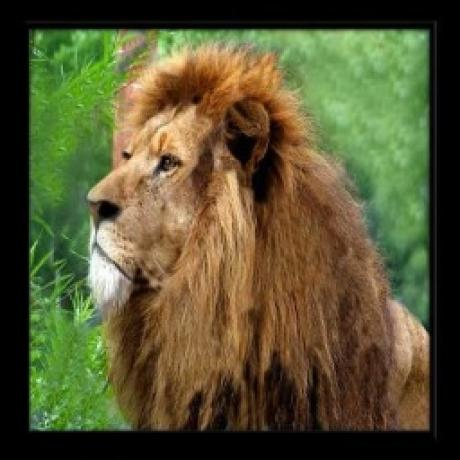Lion: (81, 35, 432, 431)
